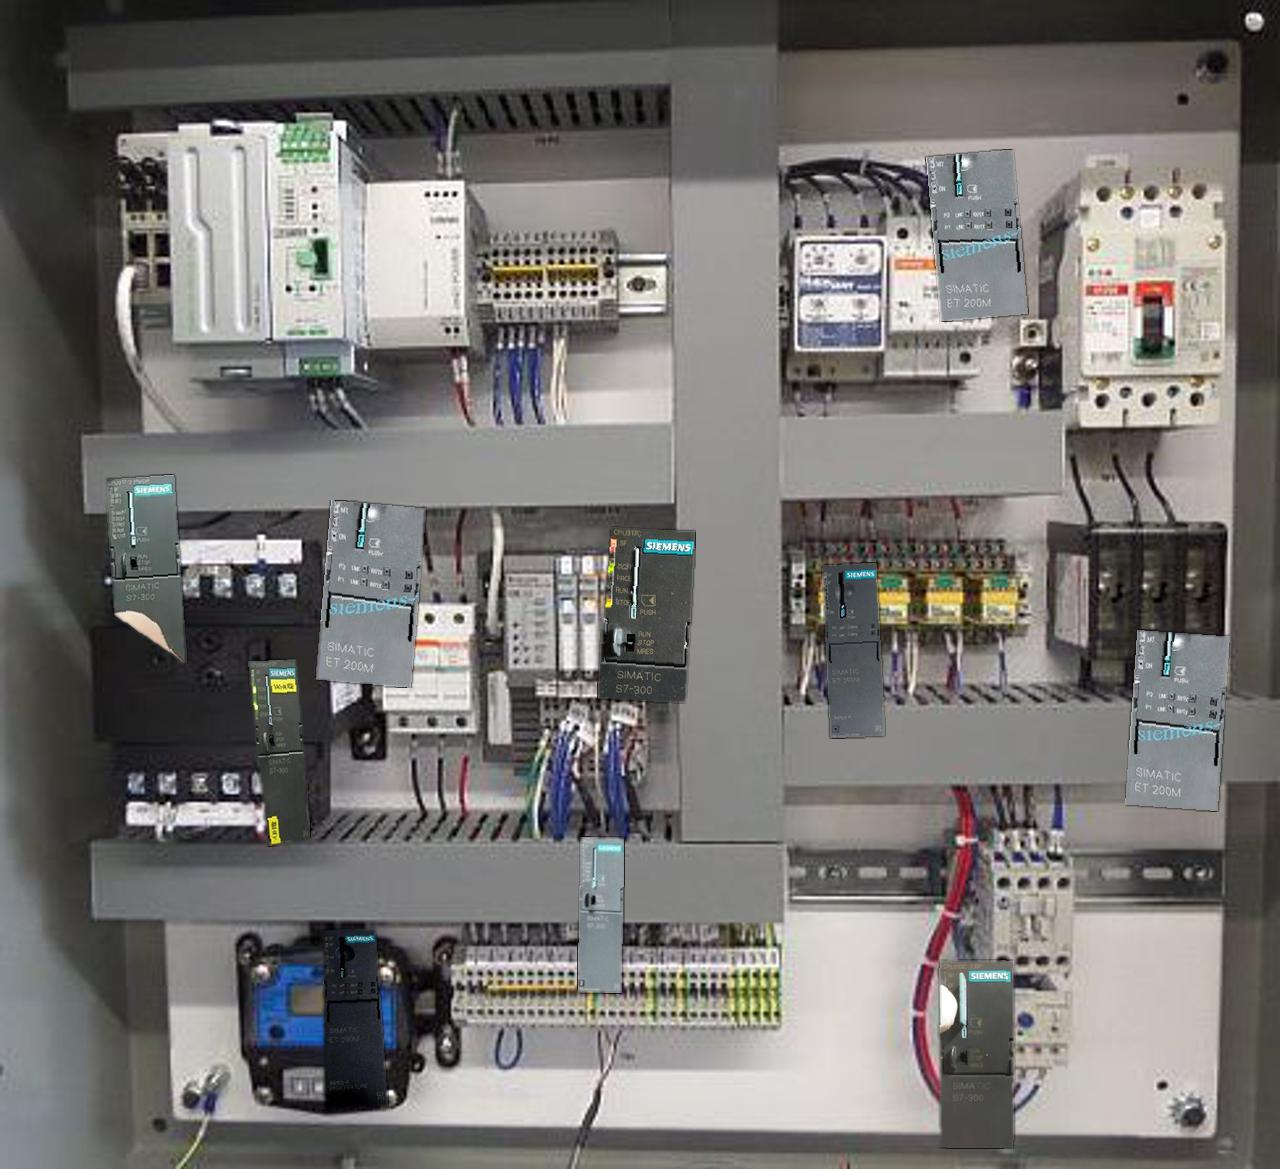Siemens: (598, 528, 694, 701), (107, 475, 185, 661), (939, 960, 1014, 1148), (248, 660, 310, 846), (578, 837, 623, 992)
